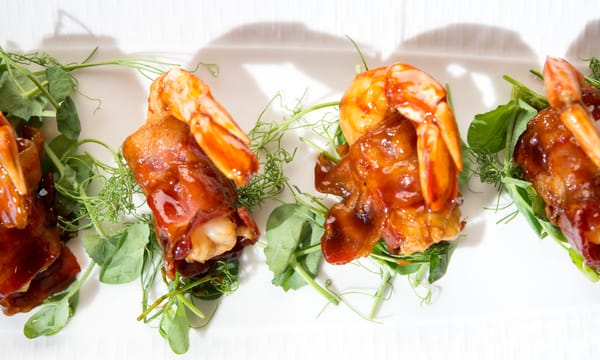soup: (122, 66, 262, 346), (318, 62, 473, 291), (464, 55, 600, 285), (0, 107, 93, 338)
